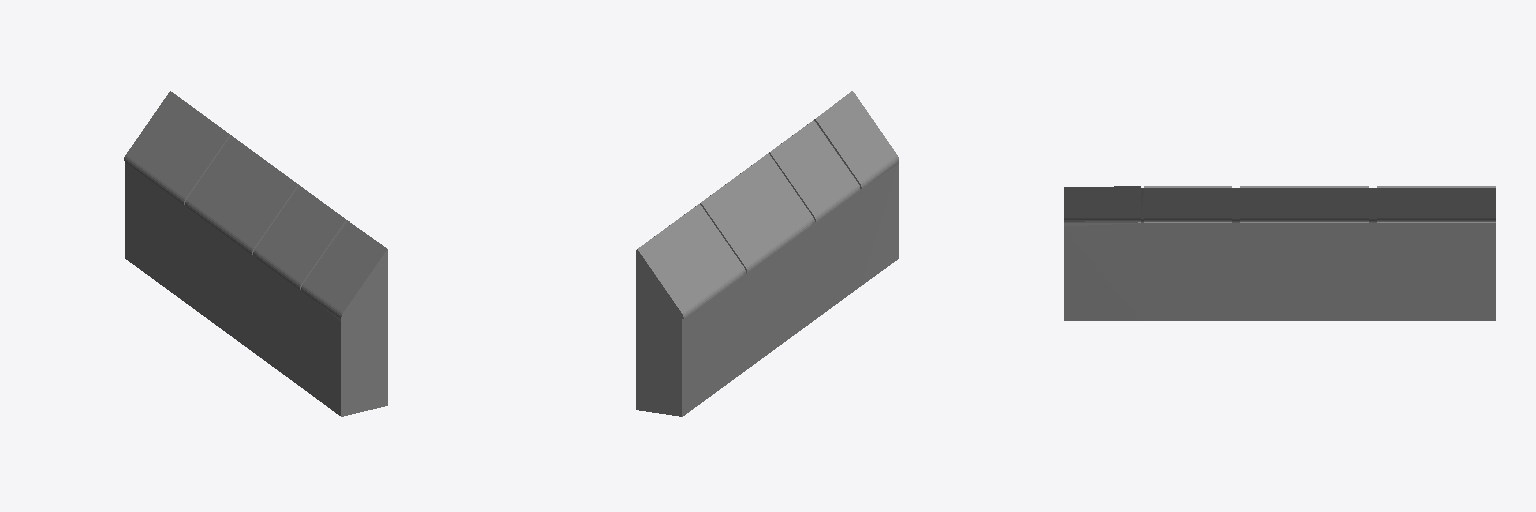
Rendered from MUEBLE_03.obj.
3 views of the same model, side by side, from view 1: azimuth 30°, elevation 25°; view 2: azimuth 150°, elevation 25°; view 3: azimuth 270°, elevation 25° (orthographic).
Parts seen in each view (by area): view 1: BITA:pCube7 group1; view 2: BITA:pCube7 group1; view 3: BITA:pCube7 group1.
Boxes of the visible parts, <box> form: BITA:pCube7 group1: <box>124,91,387,416</box>; BITA:pCube7 group1: <box>636,91,898,416</box>; BITA:pCube7 group1: <box>1064,186,1495,320</box>.
Size of the model in its own units: 0.6547 by 2.09 by 5.09.